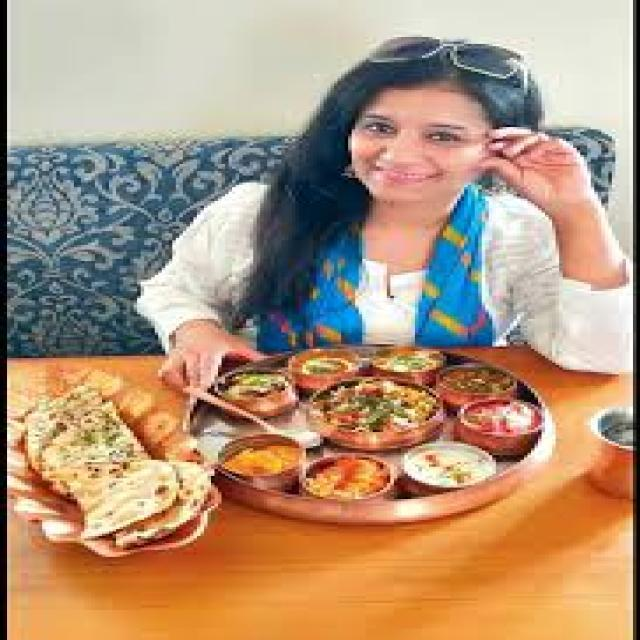papad: (167, 191, 279, 300)
raita: (396, 444, 499, 491)
roti: (20, 382, 136, 519)
sweet: (293, 453, 407, 504), (211, 433, 313, 489), (451, 401, 542, 447)
